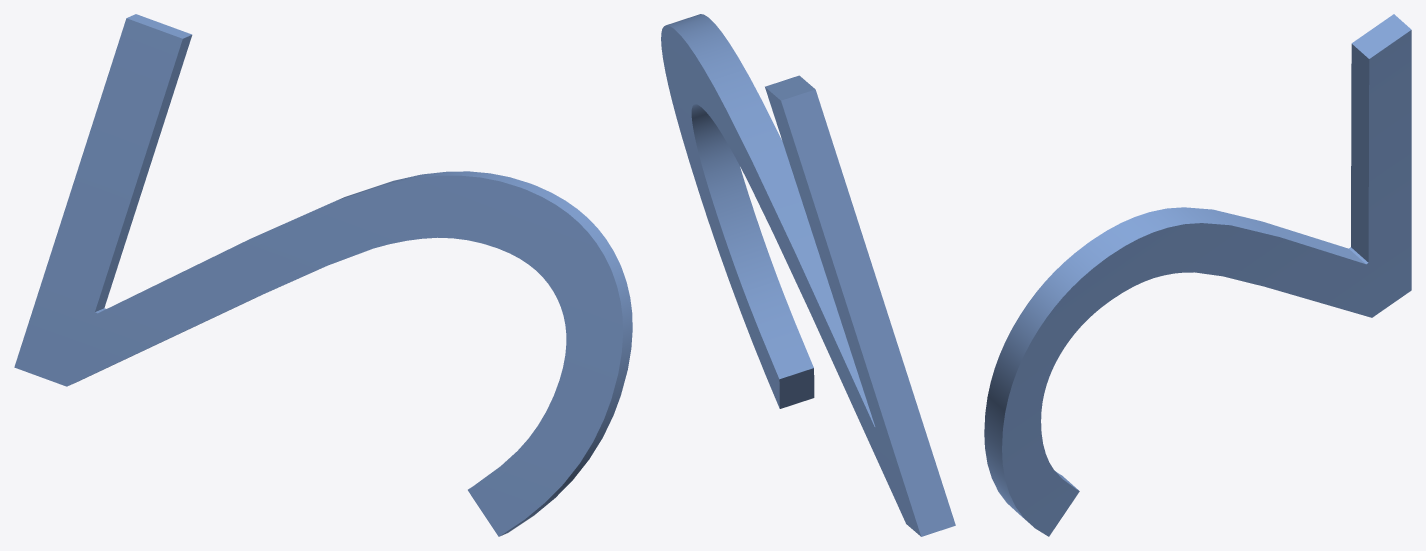
The model's file is New_Number_2.gltf.
The picture shows the model from 3 angles, left to right: view 1: azimuth 30°, elevation 25°; view 2: azimuth 150°, elevation 25°; view 3: azimuth 270°, elevation 25°; orthographic projection. The views are drawn at different scales.
Visible parts, largest first — view 1: Part 389; view 2: Part 389; view 3: Part 389.
Part boxes in pixels (x1,y1,x2,y2): Part 389: (14,14,632,536); Part 389: (661,14,955,536); Part 389: (984,14,1411,536).
Bounding box in the file's own units: 0.00428 × 0.00421 × 0.00383.
